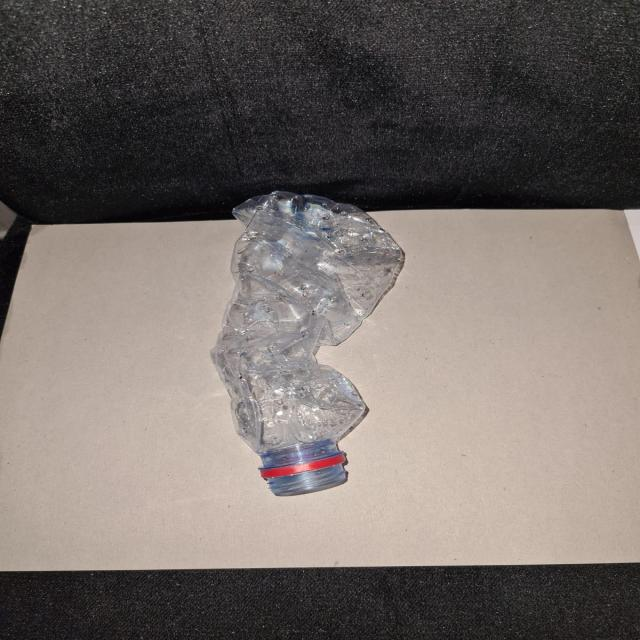bottle: (202, 188, 406, 504)
